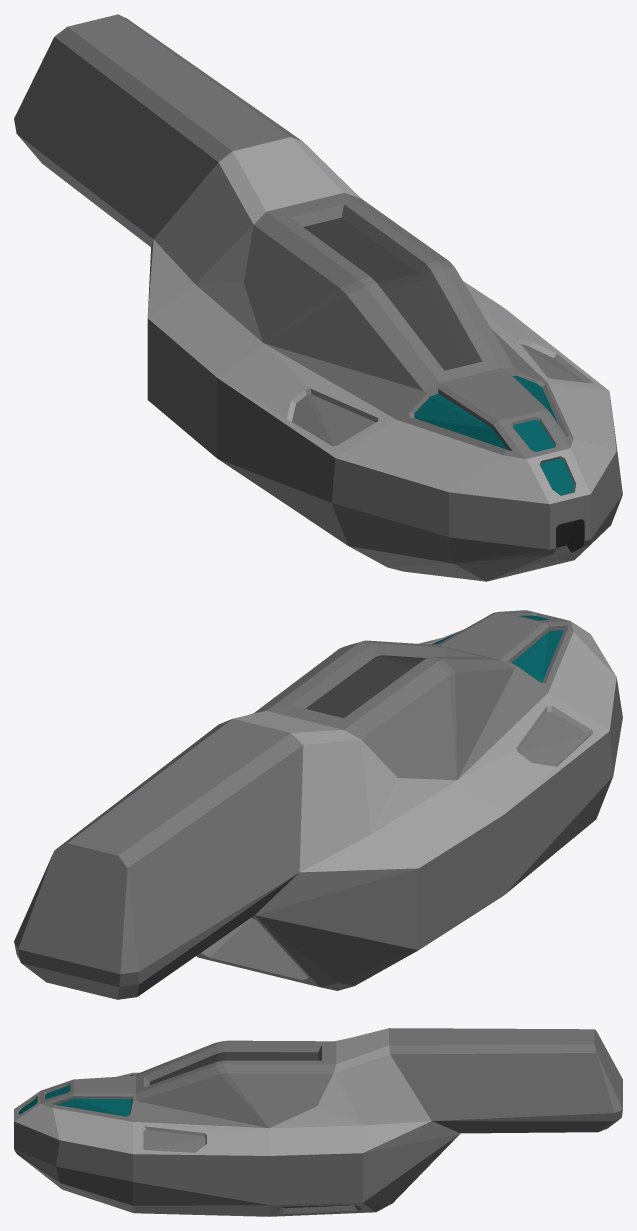
File: starship_005_Inside.fbx
3 views of the same model, one above another, from view 1: azimuth 30°, elevation 25°; view 2: azimuth 150°, elevation 25°; view 3: azimuth 270°, elevation 25° (orthographic). The views are drawn at different scales.
Parts seen in each view (by area): view 1: starship_005.002; view 2: starship_005.002; view 3: starship_005.002.
Part boxes in pixels (x1,y1,x2,y2): starship_005.002: [14, 14, 622, 581]; starship_005.002: [14, 610, 622, 999]; starship_005.002: [14, 1028, 622, 1216].
Size of the model in its own units: 680 by 582 by 2055.
